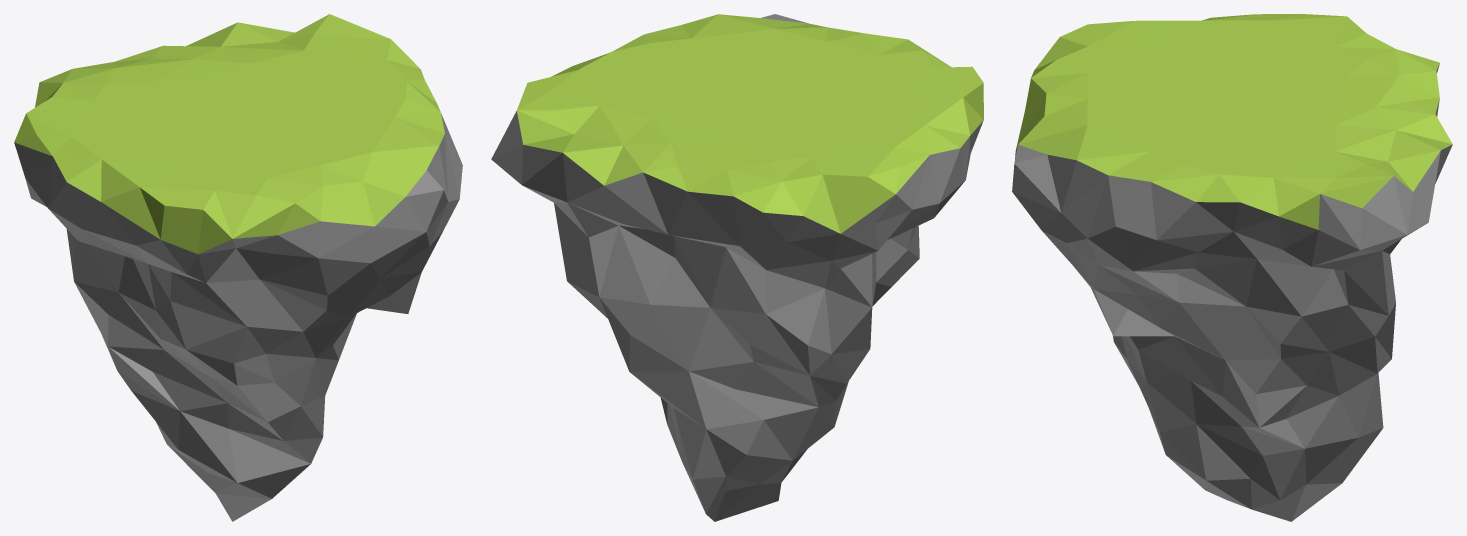
The model's file is FloatingIsland.fbx.
The picture shows the model from 3 angles, left to right: view 1: azimuth 30°, elevation 25°; view 2: azimuth 150°, elevation 25°; view 3: azimuth 270°, elevation 25°; orthographic projection. The views are drawn at different scales.
Visible parts, largest first — view 1: Cube.001; view 2: Cube.001; view 3: Cube.001.
Boxes of the visible parts, x1,y1,x2,y2 form: Cube.001: [14, 14, 462, 521]; Cube.001: [491, 14, 983, 521]; Cube.001: [1012, 14, 1452, 521].
Size of the model in its own units: 2099 by 2125 by 2025.
